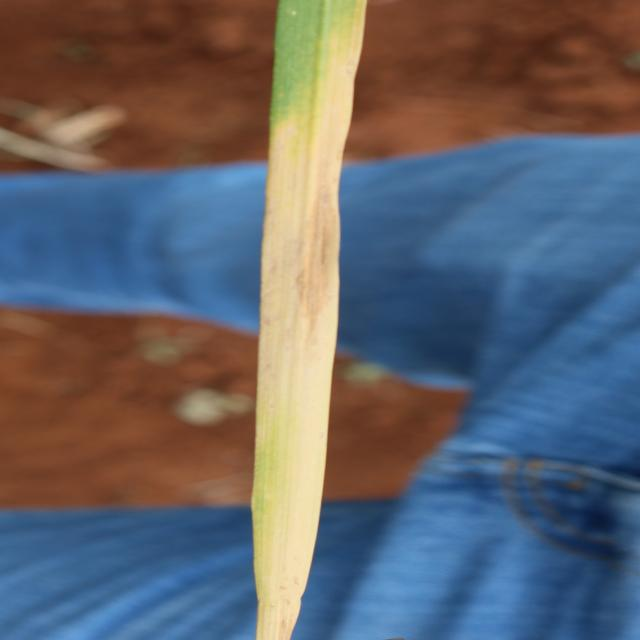Septoria: (248, 0, 368, 638)
